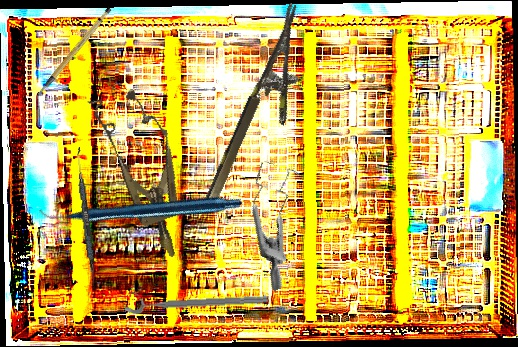Fixation Ring: (124, 284, 269, 315)
Handpiece: (37, 111, 244, 303)
Needle Holder: (199, 2, 331, 224)
Scalpel Handle: (24, 5, 123, 97)
Spatula Surgical: (72, 147, 100, 289)
Speculum: (86, 80, 205, 268), (212, 148, 346, 293)
